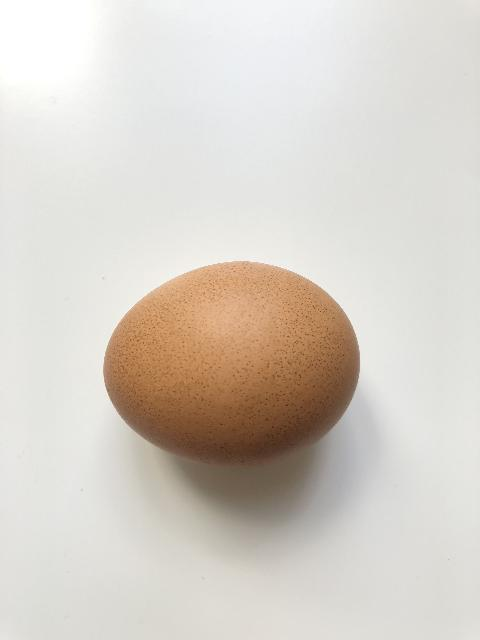Sano: (102, 259, 360, 465)
